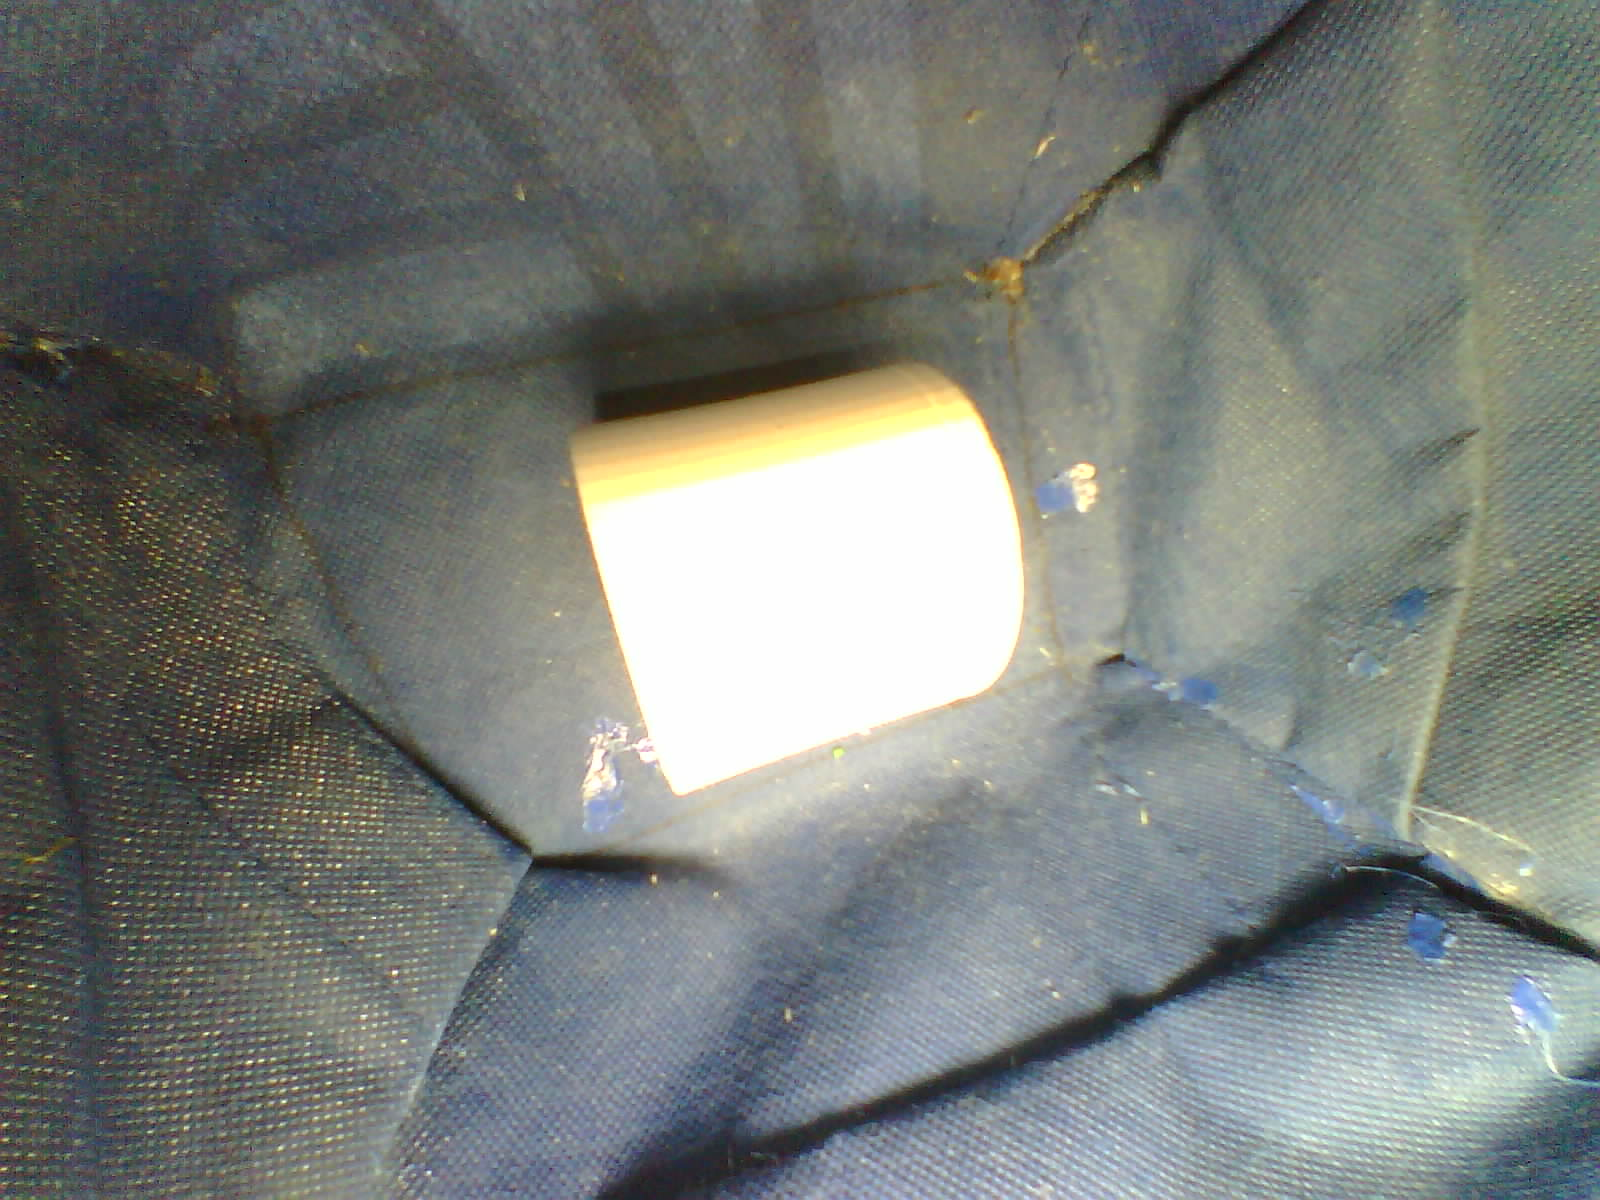cylinder-hard: (562, 344, 1052, 826)
